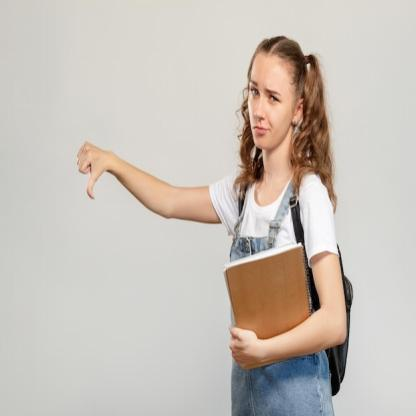thumb_down: (74, 138, 110, 203)
